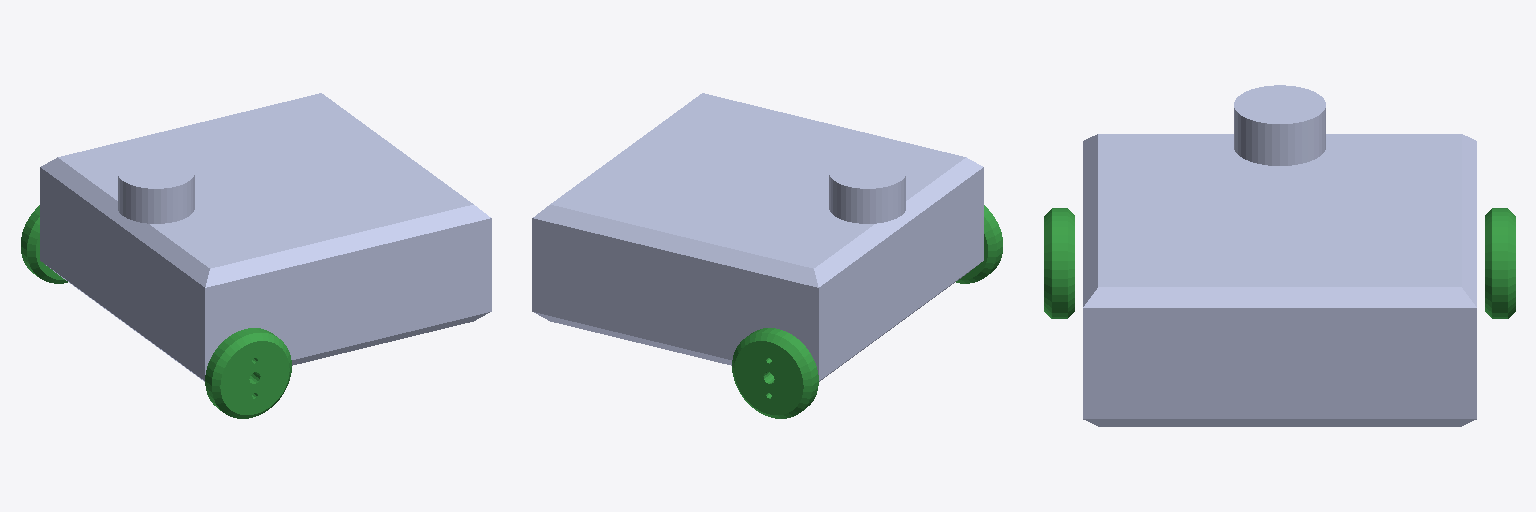
robot.urdf — minibot:
<robot
  name="minibot">
  <link
    name="base_link">
    <inertial>
      <origin
        xyz="0.097204 5.5511E-17 -0.049199"
        rpy="0 0 0" />
      <mass
        value="3" />
      <inertia
        ixx="0.040304"
        ixy="4.9362E-18"
        ixz="0.00066866"
        iyy="0.041109"
        iyz="1.1589E-18"
        izz="0.07014" />
    </inertial>
    <visual>
      <origin
        xyz="0 0 0"
        rpy="0 0 0" />
      <geometry>
        <mesh
          filename="package://minibot/meshes/base_link.STL" />
      </geometry>
      <material
        name="">
        <color
          rgba="0.79216 0.81961 0.93333 1" />
      </material>
    </visual>
    <collision>
      <origin
        xyz="0 0 0"
        rpy="0 0 0" />
      <geometry>
        <mesh
          filename="package://minibot/meshes/base_link.STL" />
      </geometry>
    </collision>
  </link>
  <link
    name="l_wh">
    <inertial>
      <origin
        xyz="-1.3878E-17 -0.01 -2.7756E-17"
        rpy="0 0 0" />
      <mass
        value="0.3" />
      <inertia
        ixx="2.5261E-05"
        ixy="2.7793E-22"
        ixz="4.1451E-23"
        iyy="4.6188E-05"
        iyz="-8.0779E-25"
        izz="2.5438E-05" />
    </inertial>
    <visual>
      <origin
        xyz="0 0 0"
        rpy="0 0 0" />
      <geometry>
        <mesh
          filename="package://minibot/meshes/l_wh.STL" />
      </geometry>
      <material
        name="">
        <color
          rgba="0.28627 0.66275 0.32941 1" />
      </material>
    </visual>
    <collision>
      <origin
        xyz="0 0 0"
        rpy="0 0 0" />
      <geometry>
        <mesh
          filename="package://minibot/meshes/l_wh.STL" />
      </geometry>
    </collision>
  </link>
  <joint
    name="l_joint"
    type="continuous">
    <origin
      xyz="0 -0.153 -0.084"
      rpy="0 0 3.1416" />
    <parent
      link="base_link" />
    <child
      link="l_wh" />
    <axis
      xyz="0 1 0" />
  </joint>
  <link
    name="r_wh">
    <inertial>
      <origin
        xyz="0 0.01 2.7756E-17"
        rpy="0 0 0" />
      <mass
        value="0.3" />
      <inertia
        ixx="2.5261E-05"
        ixy="2.8014E-22"
        ixz="4.1451E-23"
        iyy="4.6188E-05"
        iyz="6.5376E-39"
        izz="2.5438E-05" />
    </inertial>
    <visual>
      <origin
        xyz="0 0 0"
        rpy="0 0 0" />
      <geometry>
        <mesh
          filename="package://minibot/meshes/r_wh.STL" />
      </geometry>
      <material
        name="">
        <color
          rgba="0.28627 0.66275 0.32941 1" />
      </material>
    </visual>
    <collision>
      <origin
        xyz="0 0 0"
        rpy="0 0 0" />
      <geometry>
        <mesh
          filename="package://minibot/meshes/r_wh.STL" />
      </geometry>
    </collision>
  </link>
  <joint
    name="r_joint"
    type="continuous">
    <origin
      xyz="0 0.153 -0.084"
      rpy="0 0 3.1416" />
    <parent
      link="base_link" />
    <child
      link="r_wh" />
    <axis
      xyz="0 1 0" />
  </joint>
</robot>

--- What the picture shows (computed from the rendered views, not written in the file) ---
3 views of the same robot in one strip: view 1: azimuth 30°, elevation 25°; view 2: azimuth 150°, elevation 25°; view 3: azimuth 270°, elevation 25° (orthographic).
Model minibot with 3 links and 2 joints (2 continuous), rooted at base_link, posed all joints at 0.
Visible links, largest first — view 1: base_link, l_wh, r_wh; view 2: base_link, r_wh, l_wh; view 3: base_link, l_wh, r_wh.
Link boxes in pixels (bbox=[...]): base_link: bbox=[40, 93, 491, 381]; l_wh: bbox=[205, 328, 291, 418]; r_wh: bbox=[21, 205, 67, 283]; base_link: bbox=[532, 93, 983, 381]; r_wh: bbox=[732, 328, 818, 418]; l_wh: bbox=[956, 205, 1002, 283]; base_link: bbox=[1083, 85, 1476, 426]; l_wh: bbox=[1044, 208, 1074, 318]; r_wh: bbox=[1485, 208, 1515, 318].
Size in the robot's own frame: 0.262 by 0.306 by 0.15 metres.
3 mesh visuals loaded from 3 distinct referenced files (3 binary STL).